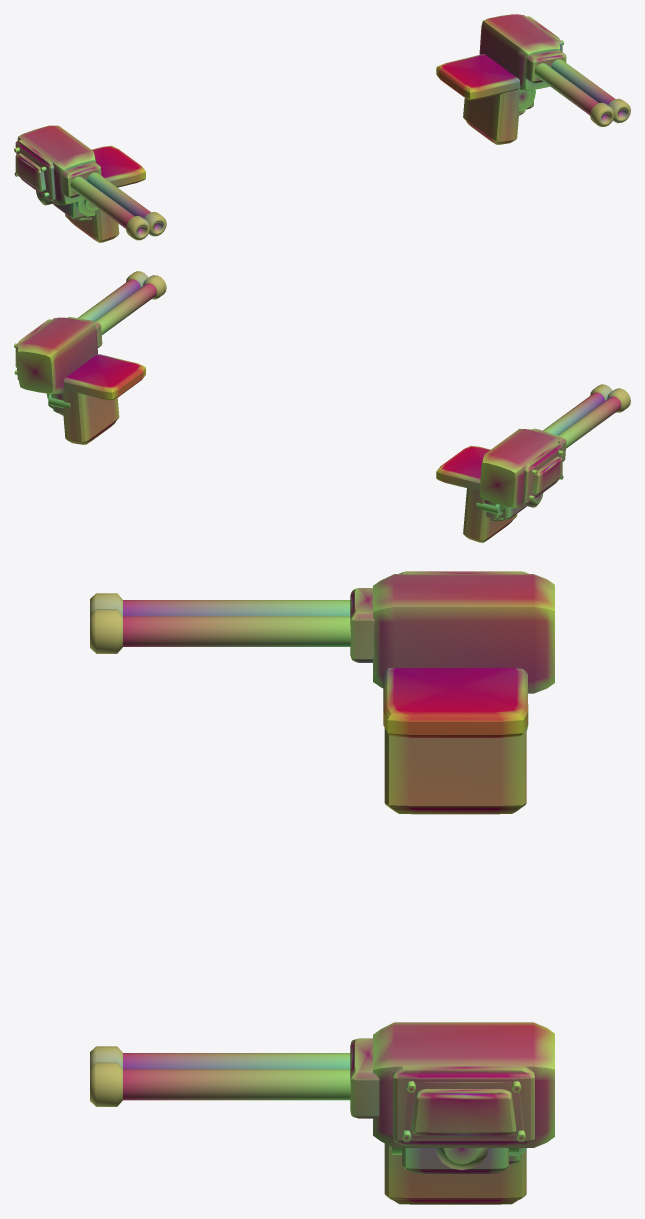
Rendered from llm_gen_shoulder_pods_081_658df1.glb.
3 renders of one model, top to bottom at view 1: azimuth 30°, elevation 25°; view 2: azimuth 150°, elevation 25°; view 3: azimuth 270°, elevation 25°, orthographic. The views are drawn at different scales.
Parts seen in each view (by area): view 1: adapter_shoulder_yoke_r, cannon_cradle_1_wing_white_r, adapter_shoulder_yoke_l, cannon_cradle_1_wing_white_l, beam_barrel_in_3_barrel_metal_r, beam_barrel_out_4_barrel_metal_l, cannon_side_shroud_blue_8_titanium_silver_l, beam_barrel_in_3_barrel_metal_l, beam_barrel_out_4_barrel_metal_r, adapter_sub_heatsink_bezel_dark_7_adapter_dark_l, adapter_sub_mantlet_dark_2_adapter_dark_l, adapter_sub_mantlet_dark_2_adapter_dark_r (+4 smaller); view 2: adapter_shoulder_yoke_r, cannon_cradle_1_wing_white_r, cannon_cradle_1_wing_white_l, adapter_shoulder_yoke_l, beam_barrel_out_4_barrel_metal_l, beam_barrel_in_3_barrel_metal_r, cannon_side_shroud_blue_8_titanium_silver_l, beam_barrel_in_3_barrel_metal_l, beam_barrel_out_4_barrel_metal_r, adapter_sub_heatsink_bezel_dark_7_adapter_dark_l; view 3: adapter_shoulder_yoke_l, cannon_cradle_1_wing_white_l, cannon_cradle_1_wing_white_r, beam_barrel_out_4_barrel_metal_r, beam_barrel_in_3_barrel_metal_l, adapter_shoulder_yoke_r, cannon_side_shroud_blue_8_titanium_silver_r, adapter_sub_heatsink_bezel_dark_7_adapter_dark_r, beam_barrel_in_3_barrel_metal_r, beam_barrel_out_4_barrel_metal_l, adapter_sub_mantlet_dark_2_adapter_dark_r, adapter_sub_mantlet_dark_2_adapter_dark_l (+3 smaller).
Boxes of the visible parts, left/top/right/bottom form: adapter_shoulder_yoke_r: left=436, top=54, right=535, bottom=144; cannon_cradle_1_wing_white_r: left=479, top=14, right=560, bottom=90; adapter_shoulder_yoke_l: left=53, top=145, right=145, bottom=242; cannon_cradle_1_wing_white_l: left=17, top=125, right=96, bottom=204; beam_barrel_in_3_barrel_metal_r: left=534, top=63, right=598, bottom=115; beam_barrel_out_4_barrel_metal_l: left=70, top=176, right=134, bottom=228; cannon_side_shroud_blue_8_titanium_silver_l: left=14, top=147, right=49, bottom=197; beam_barrel_in_3_barrel_metal_l: left=87, top=172, right=150, bottom=218; beam_barrel_out_4_barrel_metal_r: left=551, top=59, right=614, bottom=104; adapter_sub_heatsink_bezel_dark_7_adapter_dark_l: left=15, top=139, right=55, bottom=201; adapter_sub_mantlet_dark_2_adapter_dark_l: left=60, top=161, right=101, bottom=197; adapter_sub_mantlet_dark_2_adapter_dark_r: left=525, top=50, right=566, bottom=83; adapter_shoulder_yoke_r: left=46, top=354, right=145, bottom=444; cannon_cradle_1_wing_white_r: left=17, top=317, right=97, bottom=393; cannon_cradle_1_wing_white_l: left=479, top=428, right=560, bottom=508; adapter_shoulder_yoke_l: left=436, top=445, right=526, bottom=542; beam_barrel_out_4_barrel_metal_l: left=558, top=396, right=621, bottom=448; beam_barrel_in_3_barrel_metal_r: left=95, top=283, right=156, bottom=335; cannon_side_shroud_blue_8_titanium_silver_l: left=528, top=450, right=563, bottom=500; beam_barrel_in_3_barrel_metal_l: left=543, top=392, right=604, bottom=435; beam_barrel_out_4_barrel_metal_r: left=78, top=279, right=140, bottom=320; adapter_sub_heatsink_bezel_dark_7_adapter_dark_l: left=522, top=443, right=562, bottom=504; adapter_shoulder_yoke_l: left=383, top=668, right=527, bottom=814; cannon_cradle_1_wing_white_l: left=373, top=574, right=554, bottom=693; cannon_cradle_1_wing_white_r: left=373, top=1022, right=554, bottom=1147; beam_barrel_out_4_barrel_metal_r: left=123, top=1069, right=350, bottom=1100; beam_barrel_in_3_barrel_metal_l: left=123, top=616, right=350, bottom=646; adapter_shoulder_yoke_r: left=384, top=1143, right=526, bottom=1204; cannon_side_shroud_blue_8_titanium_silver_r: left=402, top=1081, right=525, bottom=1141; adapter_sub_heatsink_bezel_dark_7_adapter_dark_r: left=393, top=1066, right=534, bottom=1145; beam_barrel_in_3_barrel_metal_r: left=123, top=1053, right=350, bottom=1068; beam_barrel_out_4_barrel_metal_l: left=123, top=600, right=350, bottom=615; adapter_sub_mantlet_dark_2_adapter_dark_r: left=350, top=1038, right=379, bottom=1118; adapter_sub_mantlet_dark_2_adapter_dark_l: left=350, top=588, right=374, bottom=662.
Size of the model in its own units: 109 by 18.93 by 41.83.
